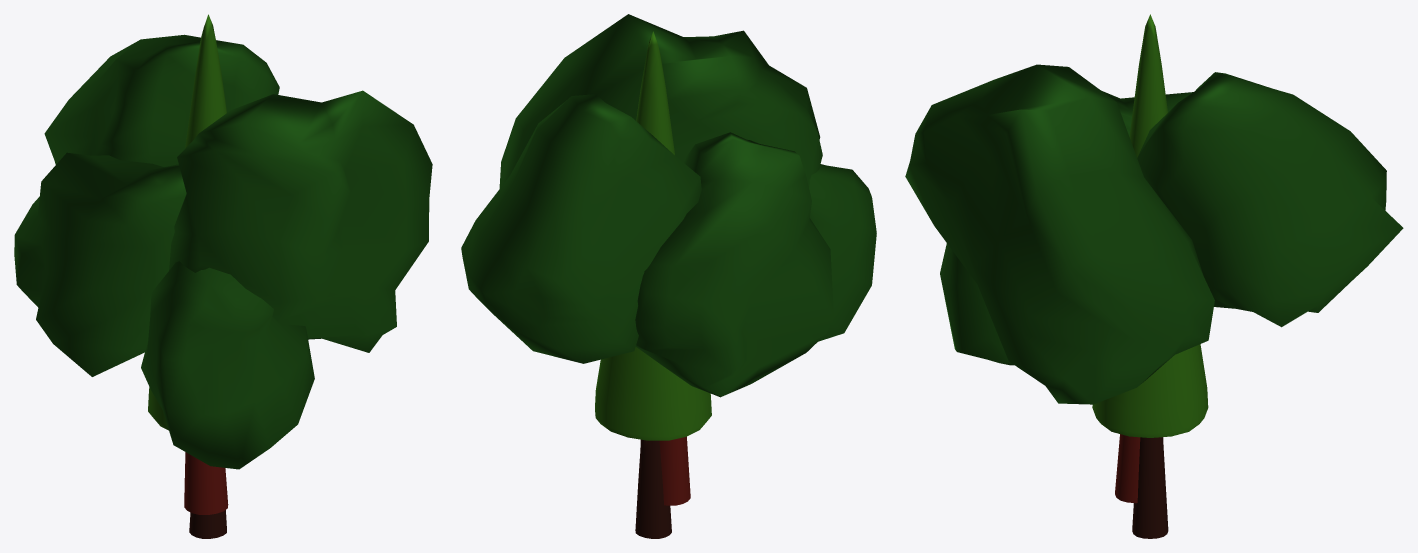
Rendered from MSH_Arboles.FBX.
3 renders of one model, left to right at view 1: azimuth 30°, elevation 25°; view 2: azimuth 150°, elevation 25°; view 3: azimuth 270°, elevation 25°, orthographic. The views are drawn at different scales.
Parts seen in each view (by area): view 1: G_Arbol-2, G_Pino; view 2: G_Arbol-2, G_Pino; view 3: G_Arbol-2, G_Pino.
Part boxes in pixels (box(x1,y1,x2,y2)): G_Arbol-2: box(14, 34, 432, 514); G_Pino: box(148, 14, 226, 538); G_Arbol-2: box(461, 14, 876, 505); G_Pino: box(595, 31, 711, 538); G_Arbol-2: box(905, 64, 1403, 503); G_Pino: box(1092, 14, 1208, 538).
Bounding box in the file's own units: 1048 × 1420 × 1241.
